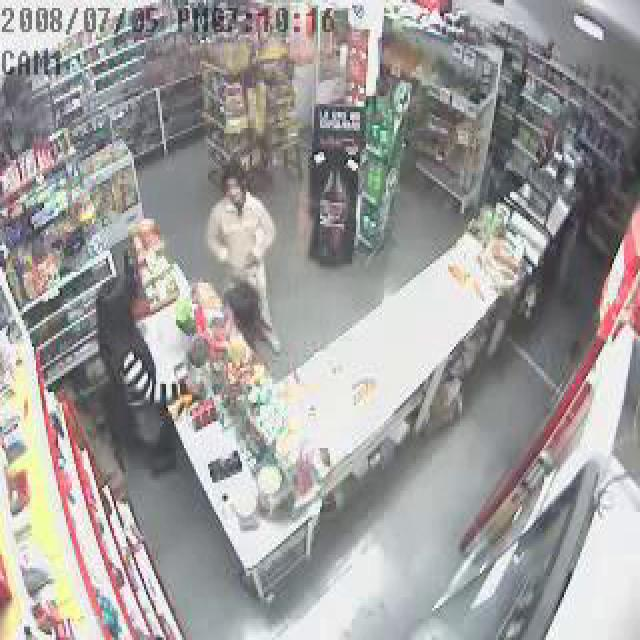robbery: (55, 128, 344, 514)
